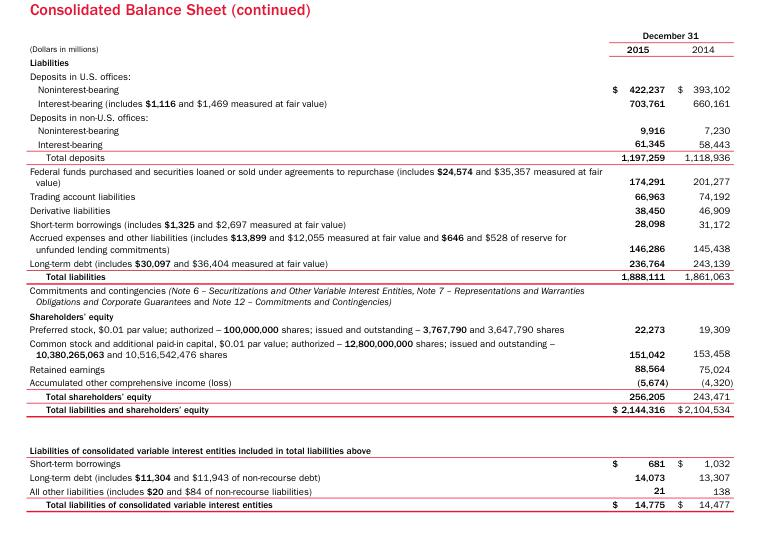table: (28, 29, 732, 509)
table column: (28, 29, 606, 509), (606, 29, 671, 509), (671, 29, 732, 509)
table column header: (28, 29, 732, 55)
table projected row header: (28, 429, 732, 456), (28, 282, 732, 308), (28, 68, 732, 82), (28, 308, 732, 322), (28, 55, 732, 68), (28, 109, 732, 122)
table row: (28, 402, 732, 429), (28, 429, 732, 456), (28, 282, 732, 308), (28, 163, 732, 188), (28, 230, 732, 255), (28, 335, 732, 360), (28, 41, 732, 55), (28, 68, 732, 82), (28, 95, 732, 109), (28, 122, 732, 136), (28, 136, 732, 150), (28, 188, 732, 202), (28, 202, 732, 216), (28, 216, 732, 230), (28, 255, 732, 269), (28, 308, 732, 322), (28, 360, 732, 374), (28, 374, 732, 388), (28, 388, 732, 402), (28, 469, 732, 483), (28, 55, 732, 68), (28, 82, 732, 95), (28, 109, 732, 122), (28, 150, 732, 163), (28, 269, 732, 282), (28, 322, 732, 335), (28, 456, 732, 469), (28, 483, 732, 496), (28, 496, 732, 509), (28, 29, 732, 41)
table spanning cell: (28, 29, 606, 55), (606, 29, 732, 41)
